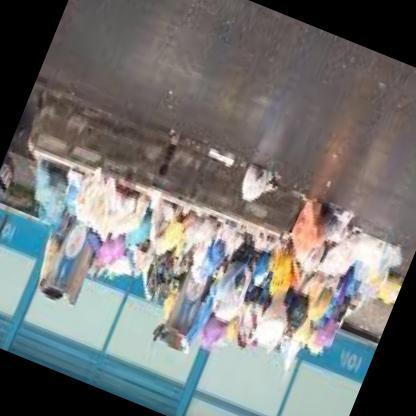Garbage: (198, 172, 415, 409), (182, 209, 358, 348), (223, 230, 363, 364), (94, 181, 210, 307), (21, 150, 114, 244), (67, 156, 157, 244), (236, 156, 286, 212)
